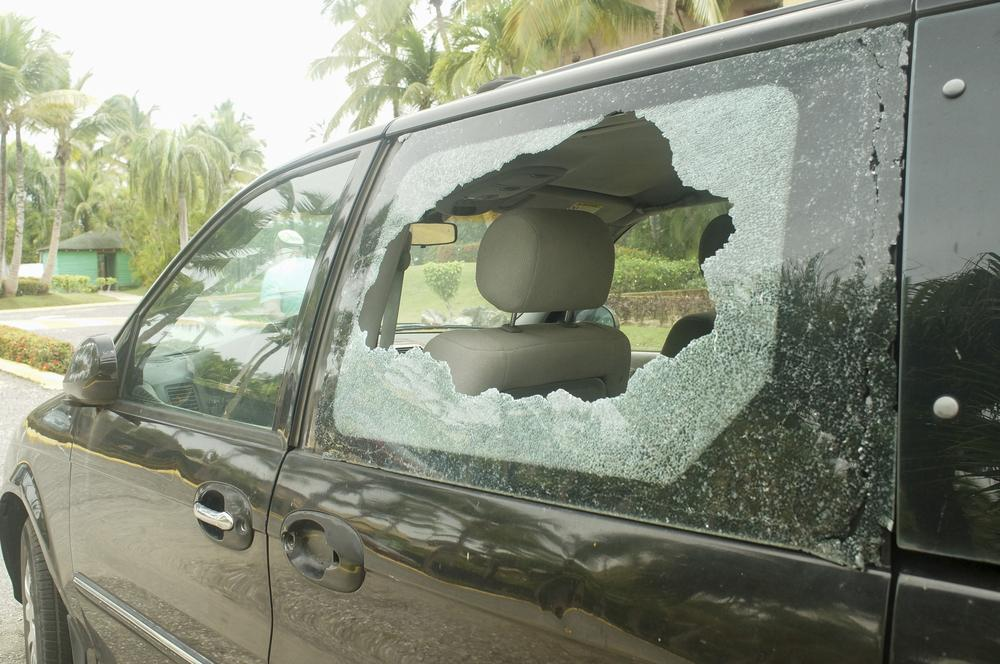glass shatter: (304, 22, 911, 570)
